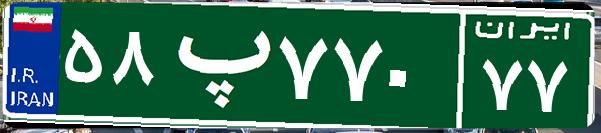0: (385, 28, 445, 110)
5: (57, 26, 110, 107)
7: (273, 28, 330, 110), (330, 28, 385, 110), (475, 38, 525, 113), (525, 38, 570, 115)
8: (110, 28, 158, 105)
پ: (158, 15, 273, 115)
